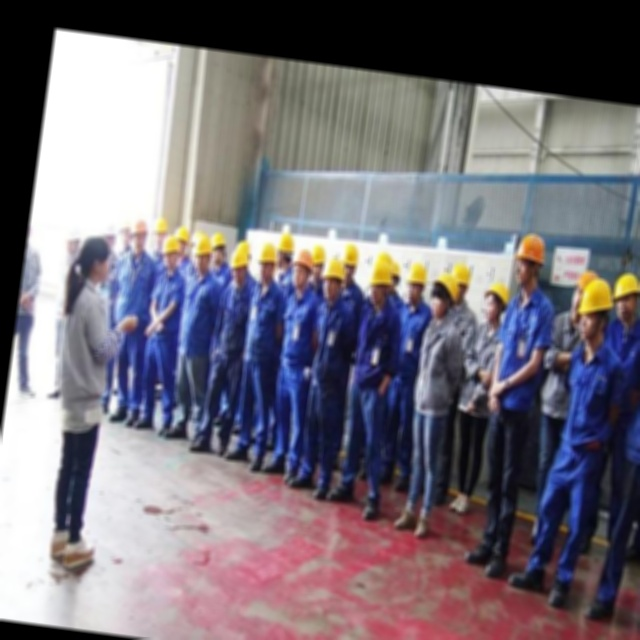Con_Casco: (572, 276, 614, 342), (511, 231, 548, 287)
Sin_Casco_Mascarrilla: (75, 236, 115, 289)
Sin_Chaleco: (493, 289, 553, 414)
